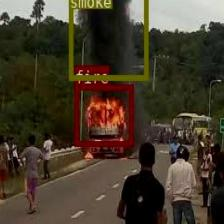fire: (74, 84, 133, 145)
smoke: (68, 0, 147, 79)
